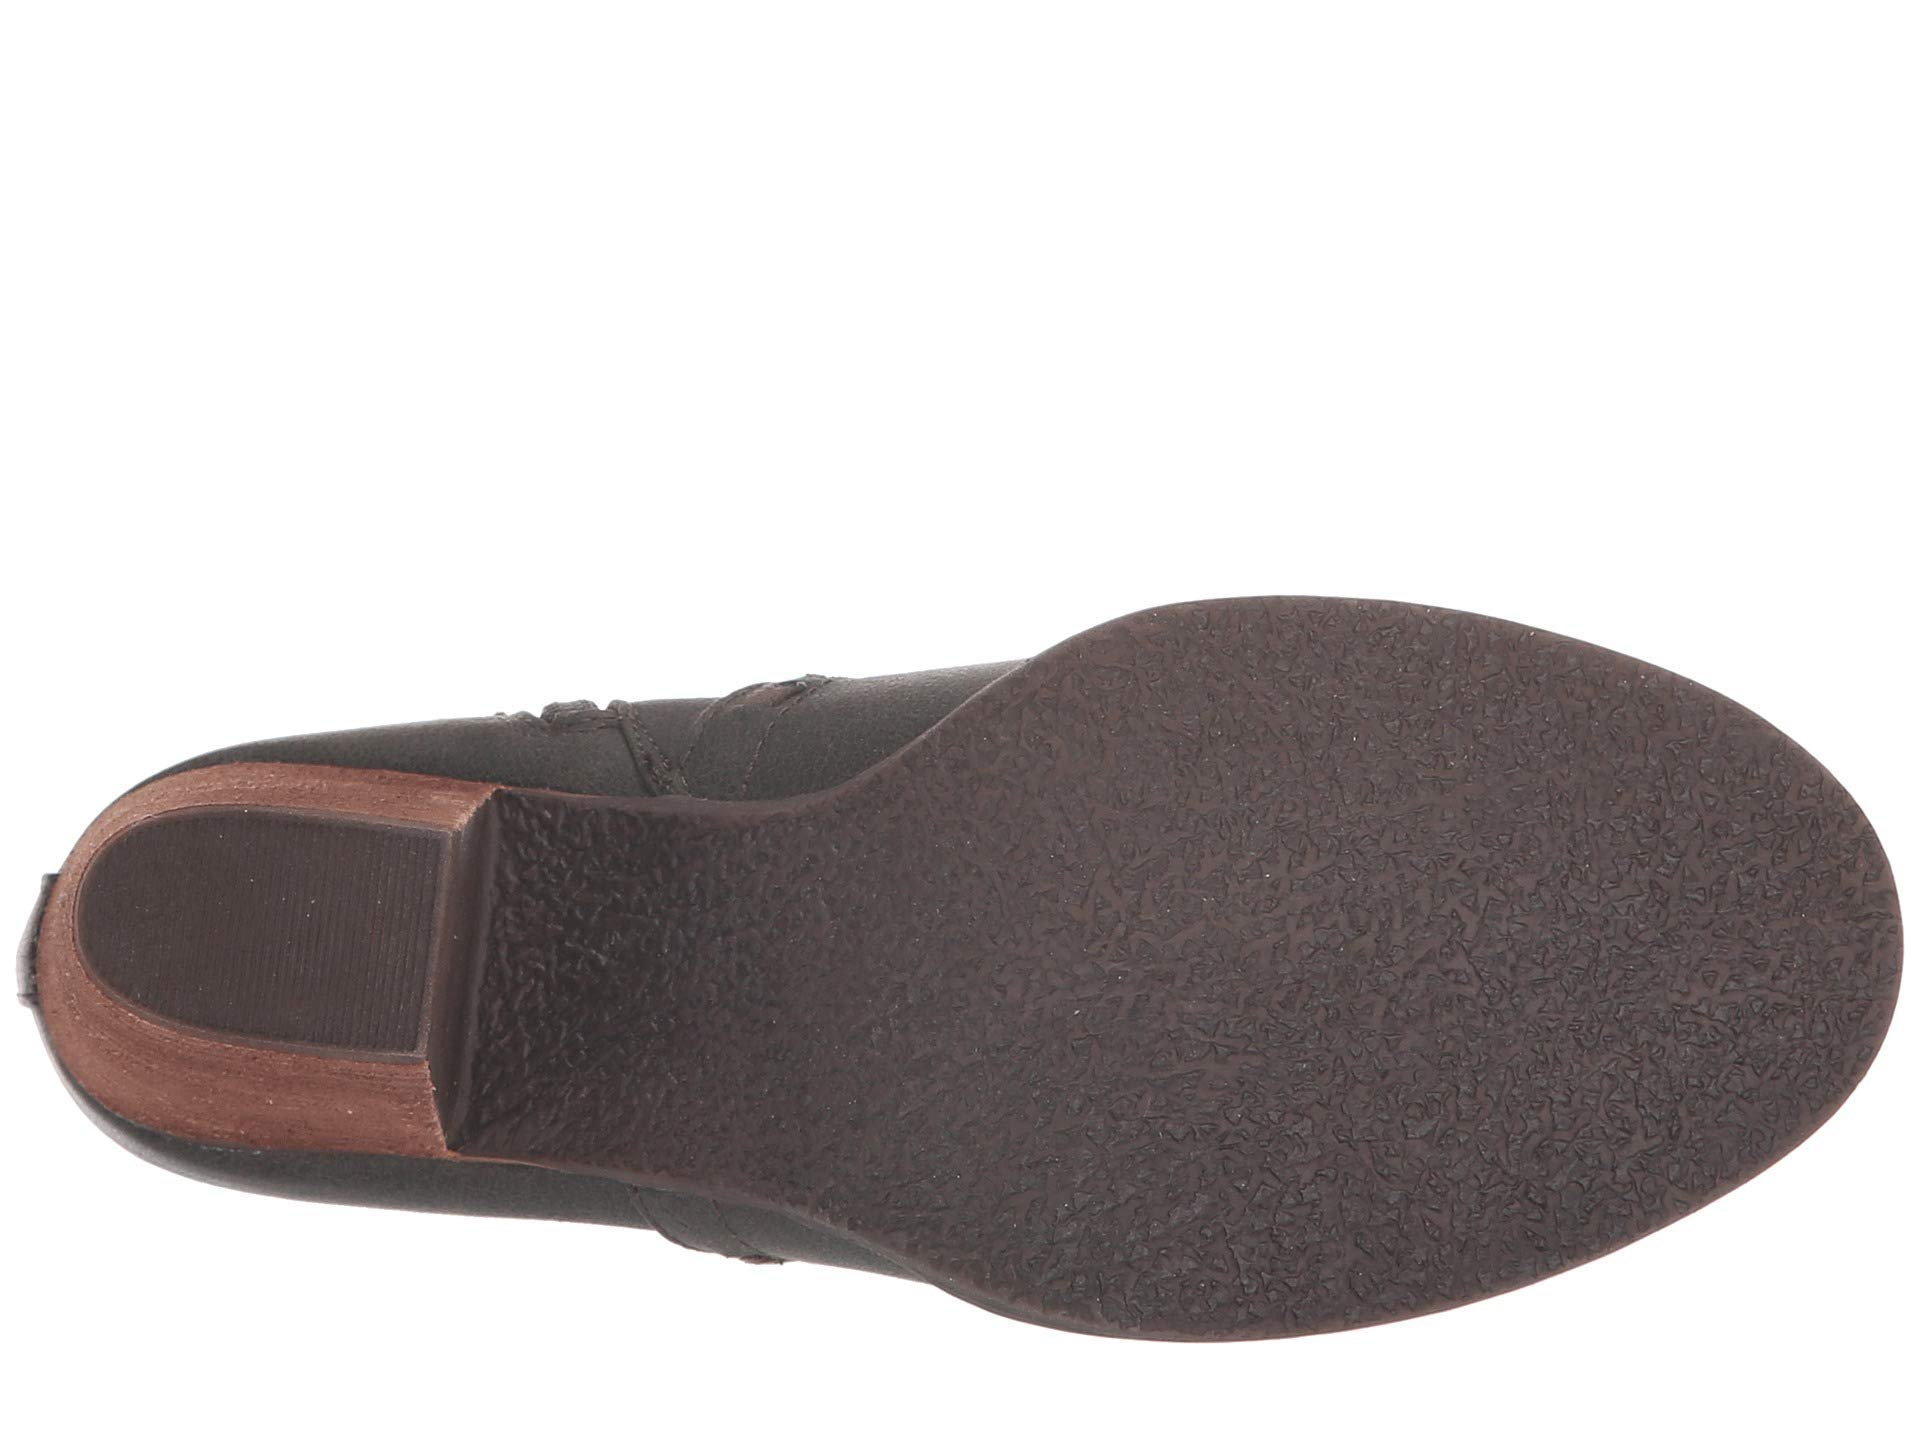line: (125, 846, 414, 1012)
other: (1005, 687, 1761, 1184)
